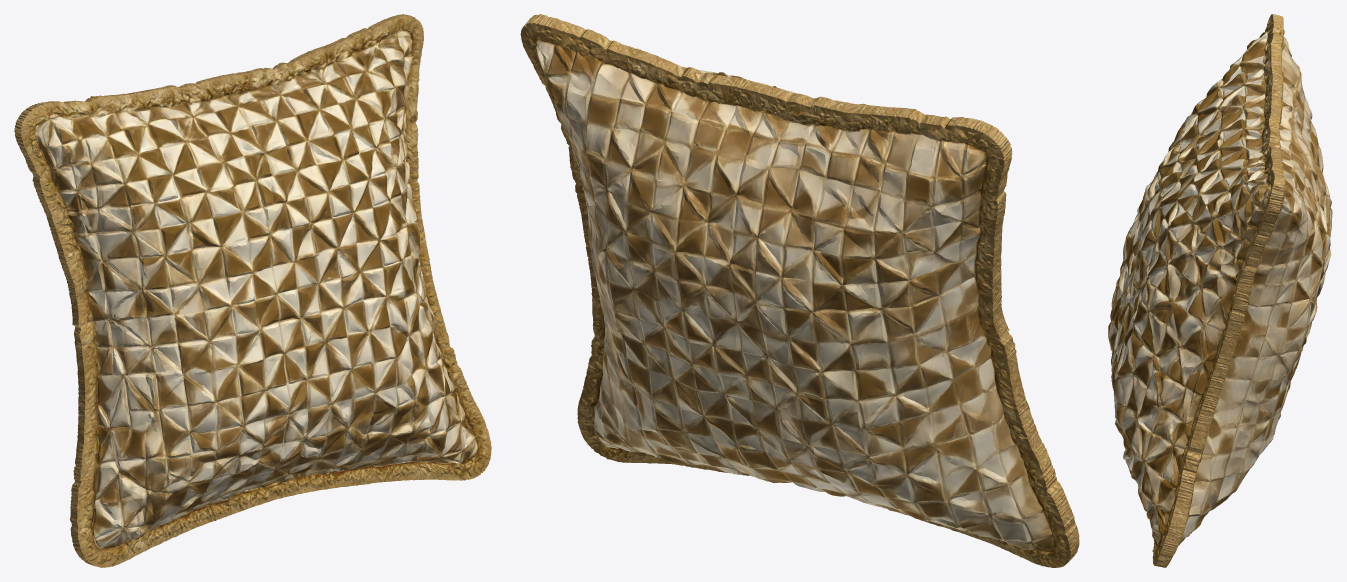
The model's file is nova-chester-dekor-yastik.glb.
The picture shows the model from 3 angles, left to right: view 1: azimuth 30°, elevation 25°; view 2: azimuth 150°, elevation 25°; view 3: azimuth 270°, elevation 25°; orthographic projection. The views are drawn at different scales.
Visible parts, largest first — view 1: YASTIK2.001; view 2: YASTIK2.001; view 3: YASTIK2.001.
Boxes of the visible parts, x1=… form: YASTIK2.001: x1=14, y1=14, x2=491, y2=567; YASTIK2.001: x1=520, y1=14, x2=1079, y2=567; YASTIK2.001: x1=1108, y1=14, x2=1332, y2=567.
Size of the model in its own units: 0.3965 by 0.3836 by 0.2025.
Materials: 1 (1 with a texture image).
